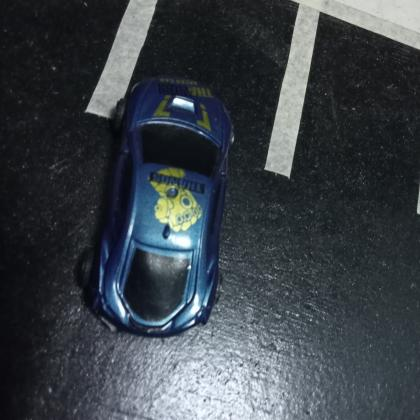Car: (79, 74, 237, 337)
